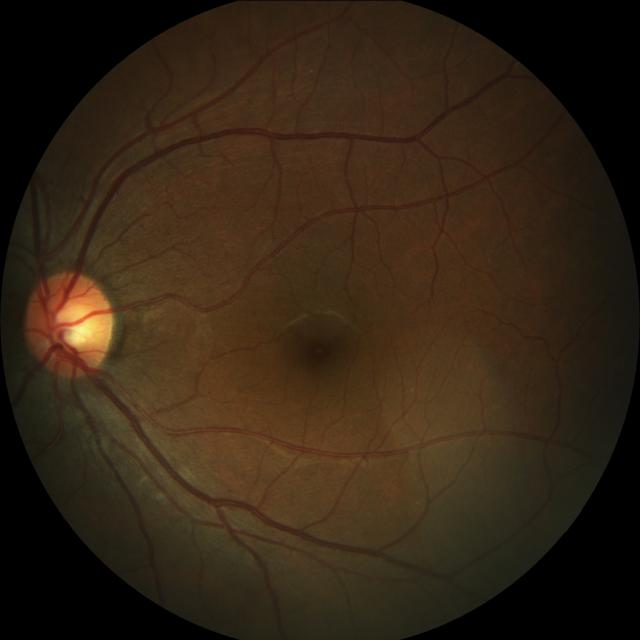OC: (44, 293, 96, 350)
OD: (22, 270, 113, 378)
